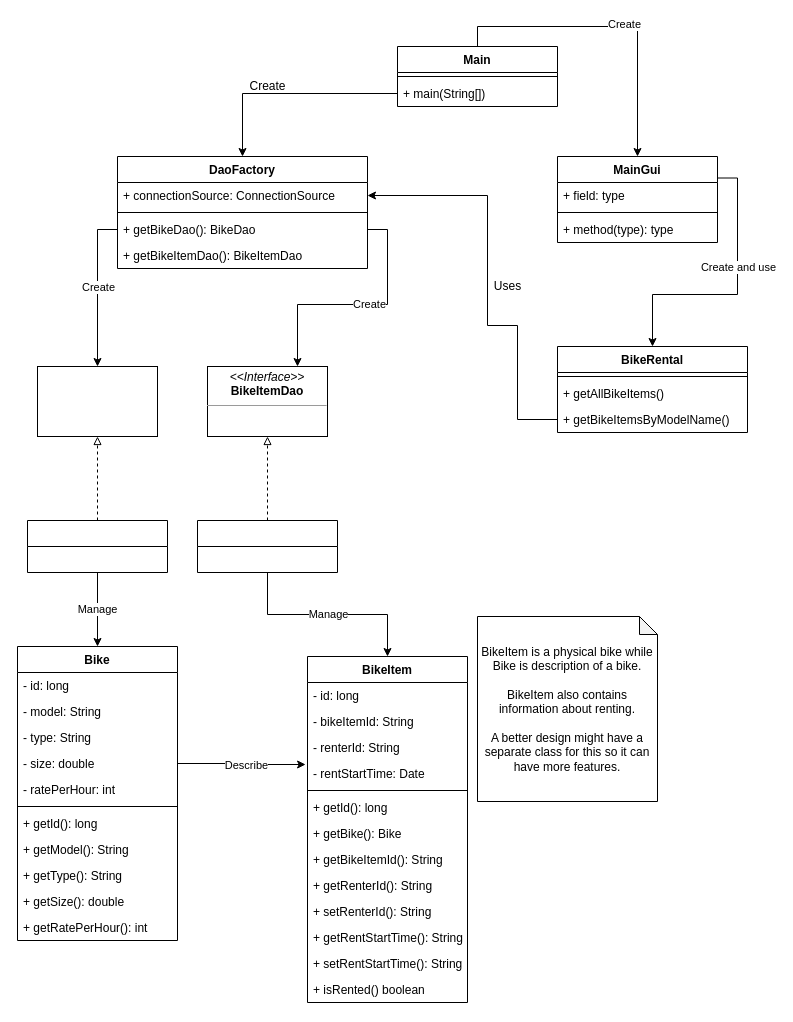
The diagram is 793 pixels wide and 1022 high, and some of its shapes have lost their labels. Here are the shapes that lost their labels. From the top down, the centre of each, then its label:
At (x=97, y=401): "<<Interface>> BikeDao".
At (x=97, y=546): "BikeDaoImpl".
At (x=267, y=546): "BikeItemDaoImpl".
